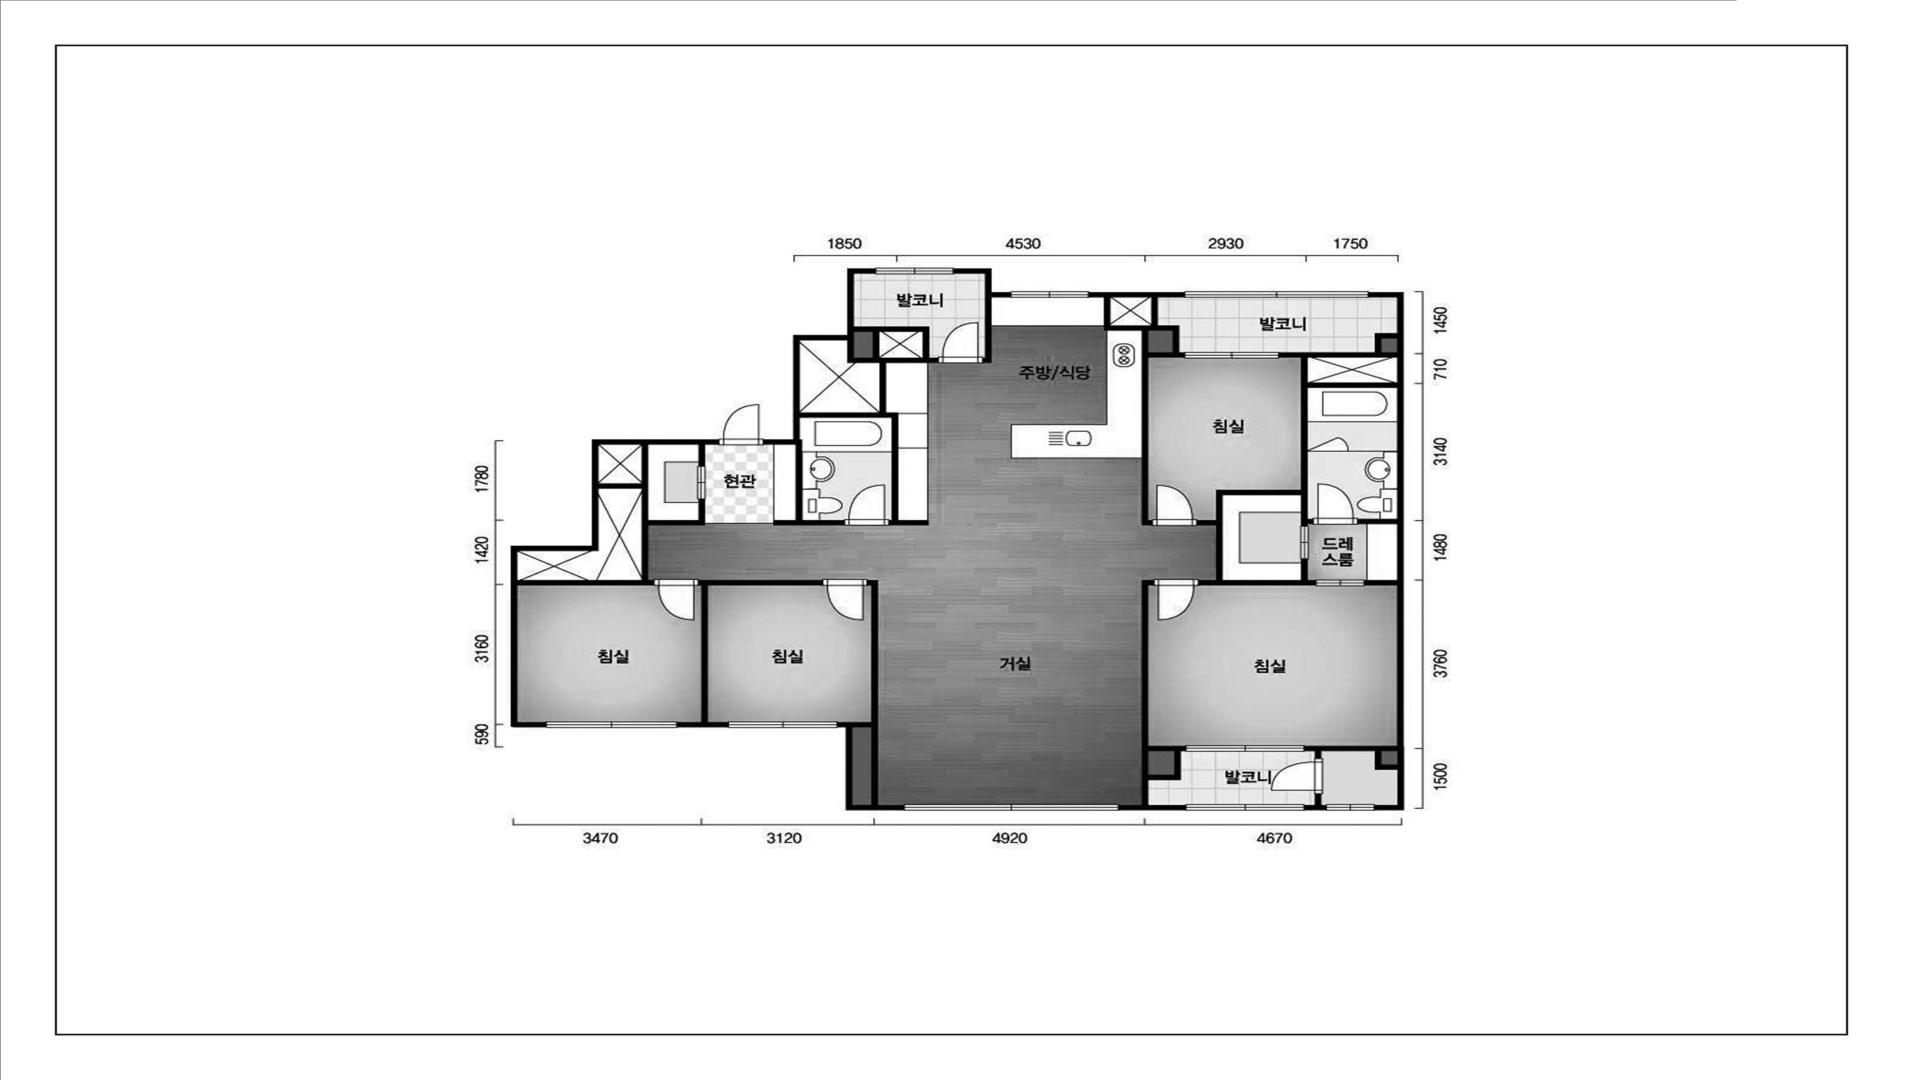door: (823, 579, 866, 621), (654, 579, 698, 621), (845, 484, 889, 526), (1153, 484, 1196, 526), (719, 404, 764, 444), (1313, 484, 1358, 525), (1154, 579, 1199, 620), (1270, 758, 1321, 794), (939, 322, 982, 363), (1307, 436, 1349, 451), (698, 467, 705, 500), (1316, 580, 1364, 585), (1302, 526, 1308, 559)
wall: (510, 439, 719, 728), (1196, 334, 1398, 585), (799, 326, 939, 526), (517, 444, 705, 585), (764, 268, 876, 444), (1369, 291, 1404, 811), (1104, 298, 1184, 526), (698, 579, 823, 721), (1142, 579, 1185, 804), (773, 439, 845, 526), (852, 579, 878, 804), (837, 723, 905, 811), (1304, 745, 1398, 770), (953, 268, 1011, 298), (880, 332, 922, 357), (1089, 291, 1184, 298), (982, 297, 992, 363), (1118, 804, 1185, 811), (678, 721, 728, 728), (1357, 518, 1398, 525), (1364, 580, 1398, 585), (698, 444, 705, 467), (1304, 804, 1327, 811), (1349, 450, 1398, 452), (1315, 794, 1321, 804)
window: (905, 804, 1118, 811), (1184, 291, 1369, 298), (546, 721, 678, 728), (1185, 745, 1304, 752), (728, 721, 837, 728), (1185, 804, 1304, 810), (1184, 352, 1279, 359), (1011, 291, 1089, 298), (876, 268, 953, 274), (1327, 804, 1375, 811)
